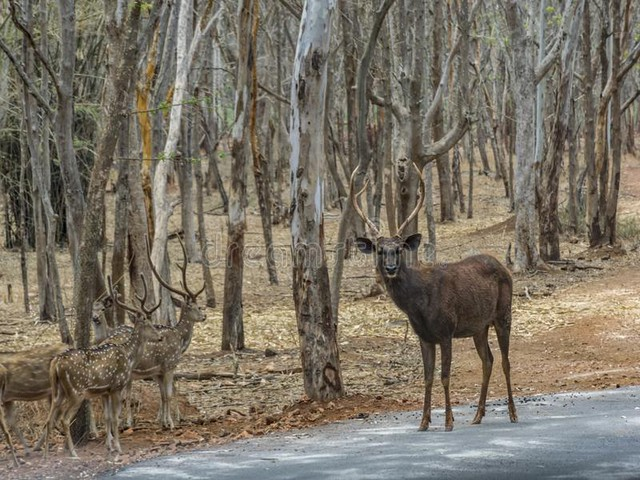deer: (343, 154, 524, 440), (37, 300, 162, 455), (156, 241, 212, 344)
